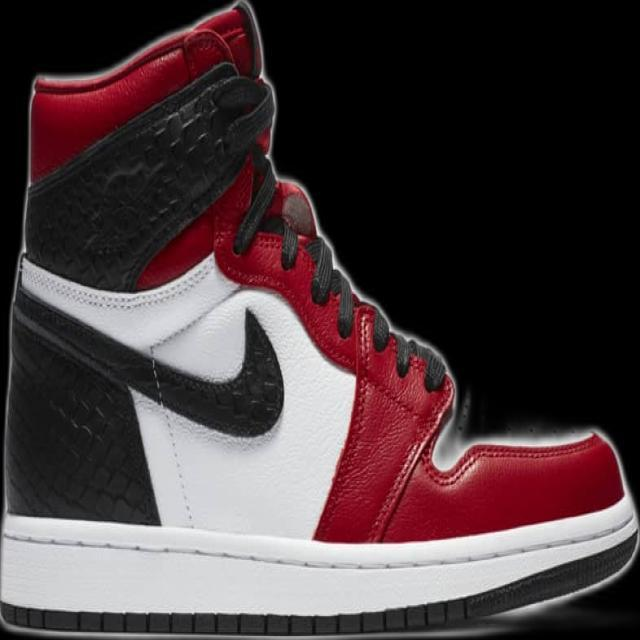J1_InsoleChar: (0, 0, 639, 639)
J1_StitchPattern: (0, 513, 639, 638), (5, 283, 285, 522), (27, 60, 277, 286), (235, 169, 451, 395), (5, 309, 156, 523), (231, 158, 360, 339), (142, 305, 286, 438), (0, 600, 464, 638), (352, 299, 449, 394), (215, 306, 285, 436), (302, 234, 358, 337), (230, 149, 280, 256), (389, 331, 448, 393), (303, 235, 338, 304)
